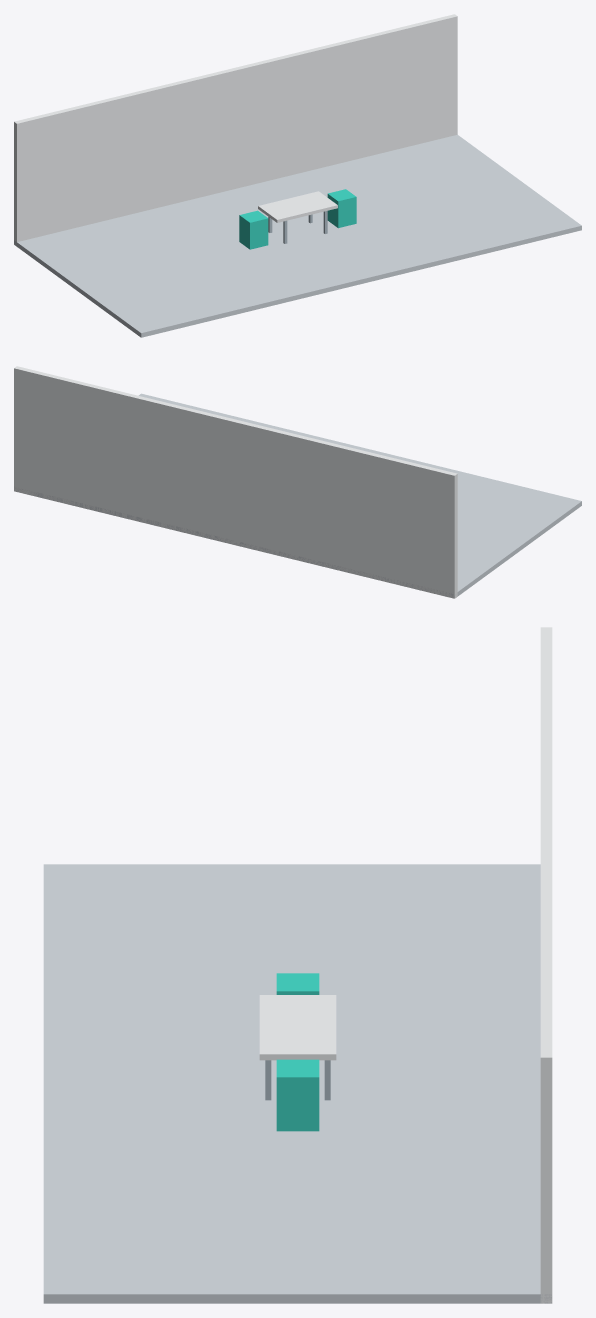
3 views of the same model, one above another, from view 1: azimuth 30°, elevation 25°; view 2: azimuth 150°, elevation 25°; view 3: azimuth 270°, elevation 25° (orthographic). The views are drawn at different scales.
Visible parts, largest first — view 1: Exhibition Booth Concept; view 2: Exhibition Booth Concept; view 3: Exhibition Booth Concept.
Boxes of the visible parts, x1=… form: Exhibition Booth Concept: x1=14, y1=14, x2=581, y2=337; Exhibition Booth Concept: x1=14, y1=366, x2=581, y2=598; Exhibition Booth Concept: x1=43, y1=627, x2=552, y2=1303.
Bounding box in the file's own units: 12 × 3.2 × 6.
